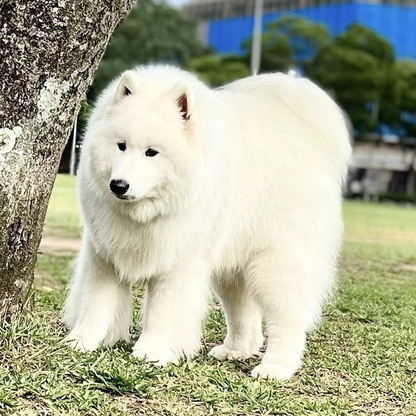samoyed: (50, 56, 359, 385)
